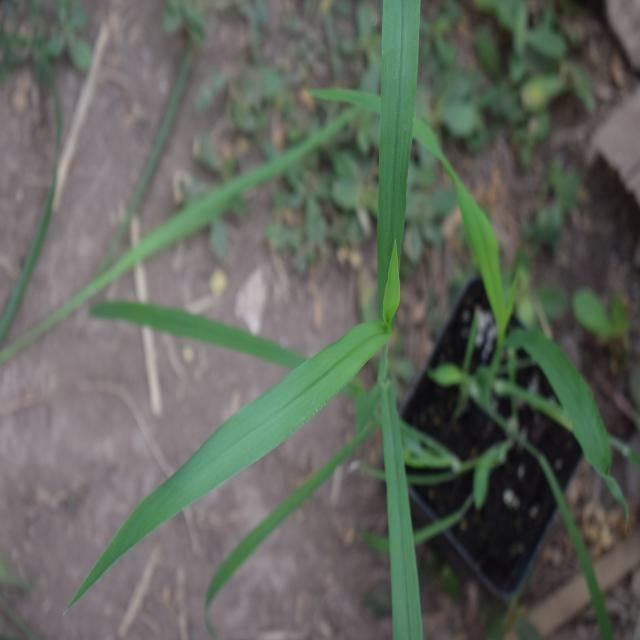crabgrass: (143, 14, 454, 622)
